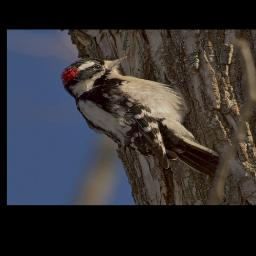Woodpecker: (60, 55, 220, 178)
